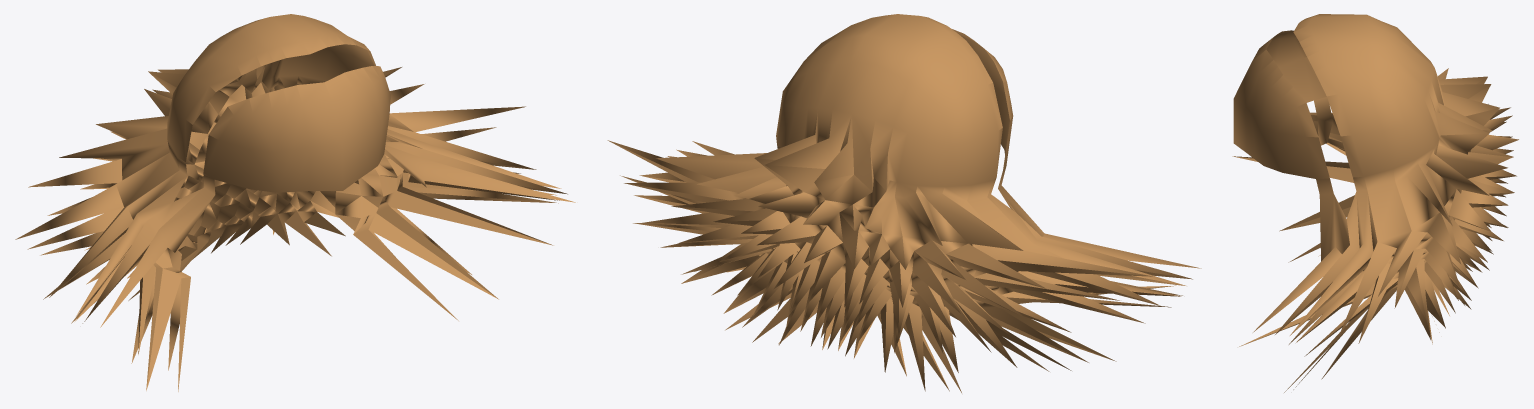
File: Fire_Skalp_Sanic_too 1.fbx
The picture shows the model from 3 angles, left to right: view 1: azimuth 30°, elevation 25°; view 2: azimuth 150°, elevation 25°; view 3: azimuth 270°, elevation 25°; orthographic projection. The views are drawn at different scales.
Parts seen in each view (by area): view 1: Character_Model_RAW_UV_unfold3d:polySurface7; view 2: Character_Model_RAW_UV_unfold3d:polySurface7; view 3: Character_Model_RAW_UV_unfold3d:polySurface7.
Part boxes in pixels (x1,y1,x2,y2): Character_Model_RAW_UV_unfold3d:polySurface7: [15, 14, 575, 391]; Character_Model_RAW_UV_unfold3d:polySurface7: [607, 14, 1201, 392]; Character_Model_RAW_UV_unfold3d:polySurface7: [1232, 14, 1518, 392].
Size of the model in its own units: 1.38 by 0.8012 by 0.6912.
